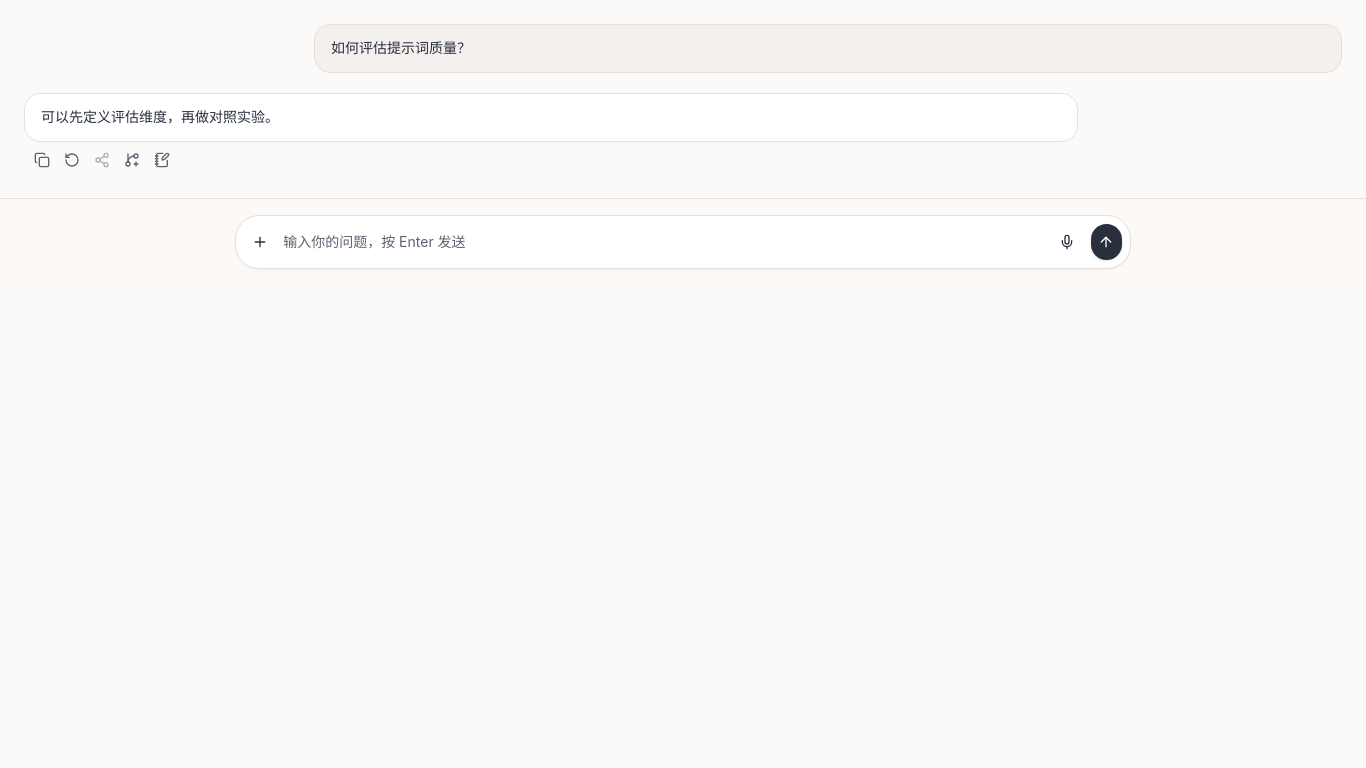
ChatPane › opens tools popover from plus button
The image size is (1366, 768).
What coordinates should you click on to do the following:
click the button named "打开附件菜单"
I would click on:
 (260, 242)
Its box is [244,224,275,260].
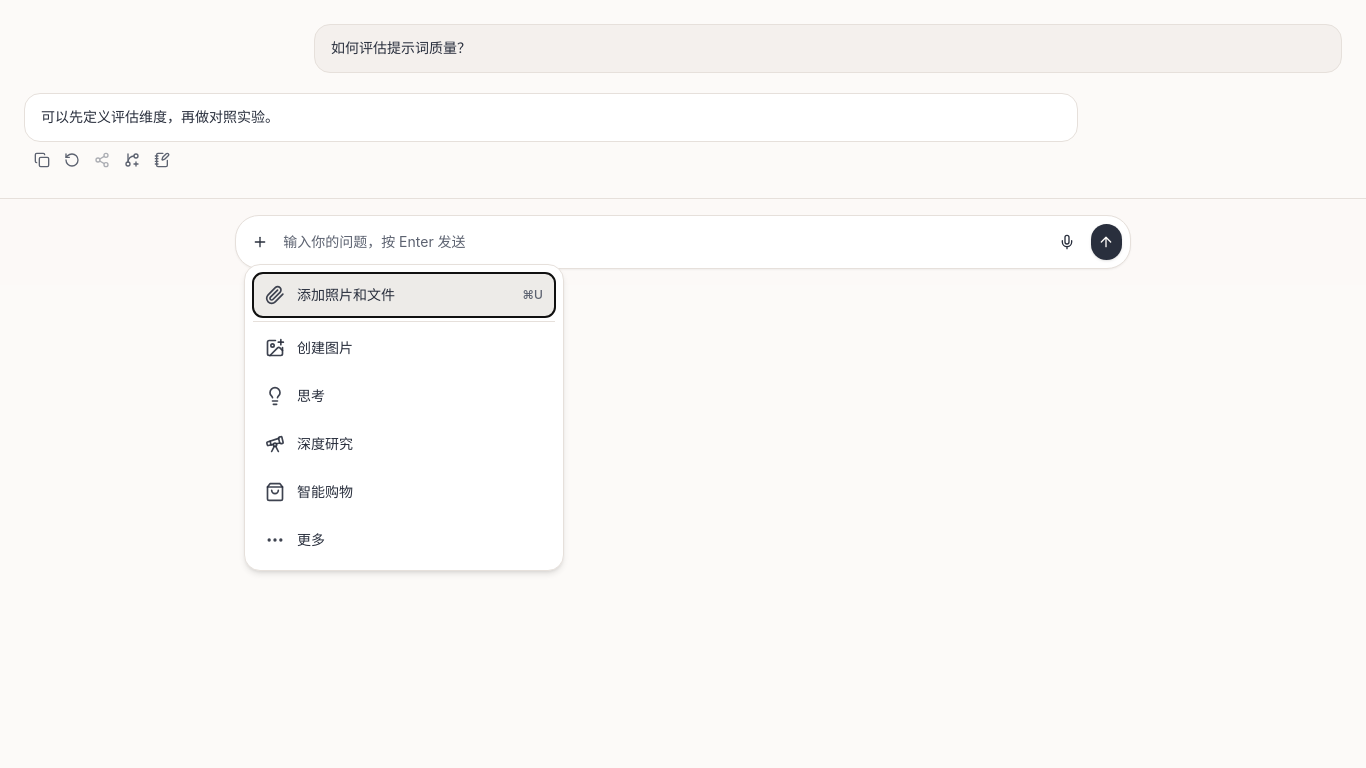
Result: the button "添加照片和文件 ⌘U" is shown at [253,273,555,317]
Result: the button "创建图片" is shown at [253,326,555,370]
